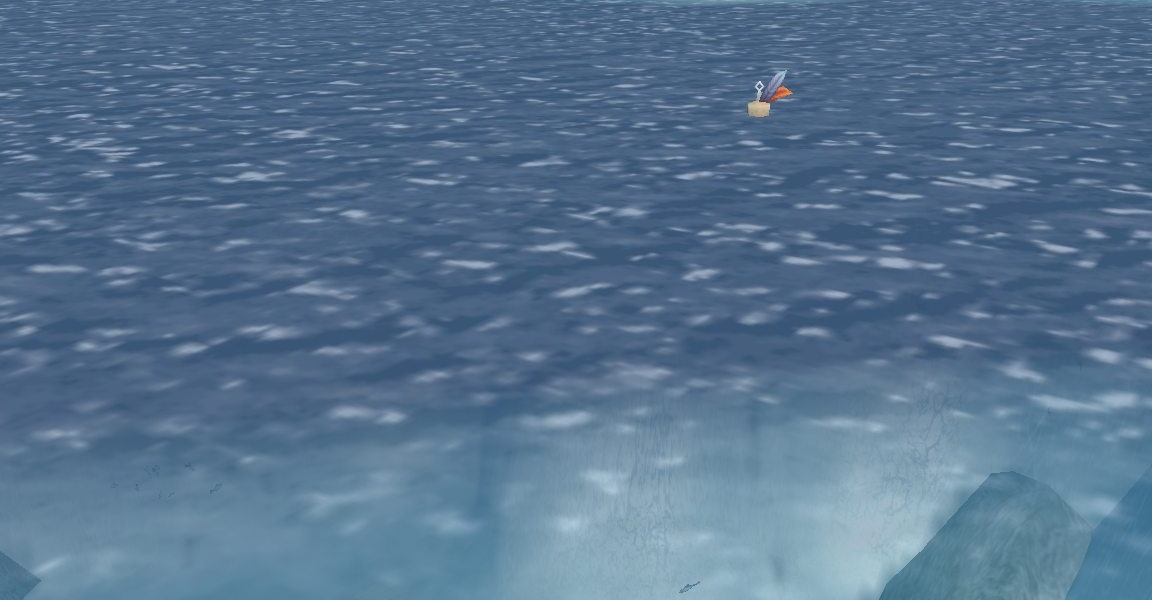Bobber: (742, 65, 798, 119)
